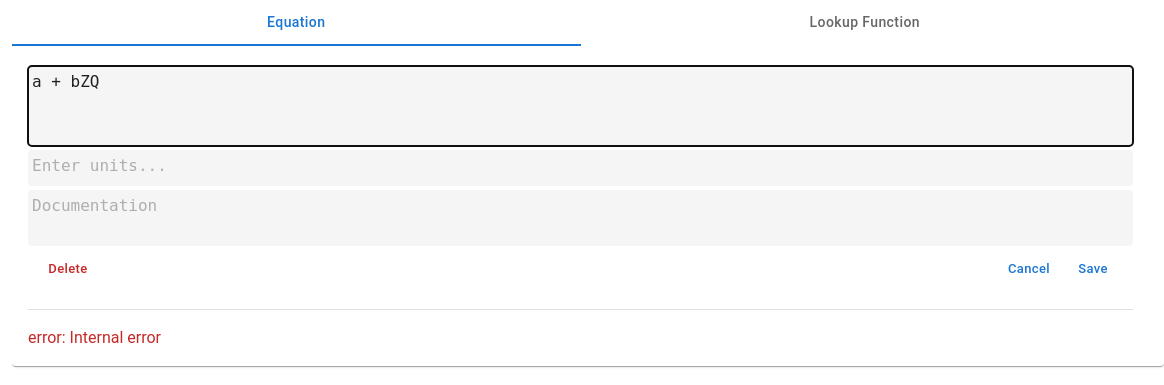
Test: VariableDetails Cancel restores the base, not the committed text › a panel mounted with a pending submission cancels back to that submission
Expected: the field with class "eqnEditor" is shown, [28,66,1133,146]
Step 1. Click the button "Cancel" → [1029, 269], box [997,254,1061,285]
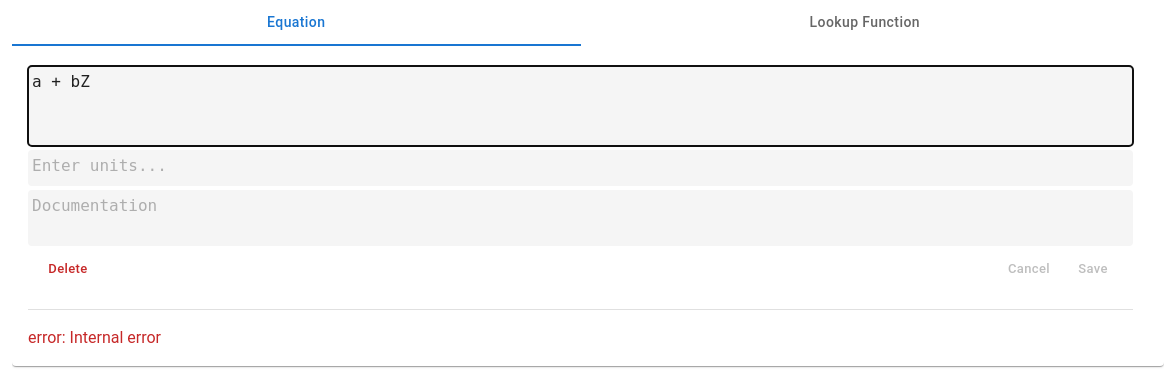
Expected: the text "a + bZ" is shown, [32,72,90,91]
Result: the button "Cancel" is disabled at [997,254,1061,285]
